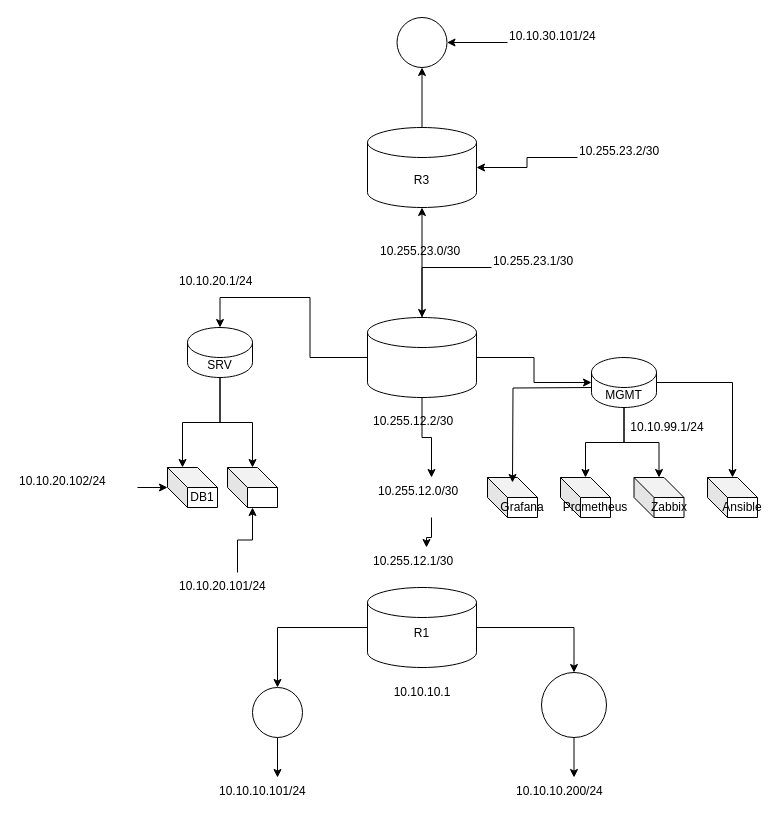
This 779x835 diagram has some shape labels left out. The centre of each missing label's shape, as x and y in pixels:
Attacker: (573,705)
branch-client: (421,42)
Client1: (277,712)
R2: (421,357)
WEB1: (252,487)
